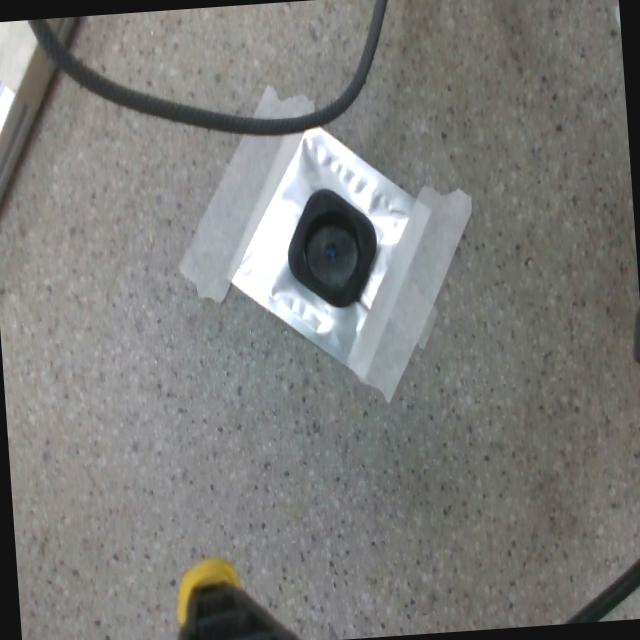cell: (282, 185, 379, 310)
